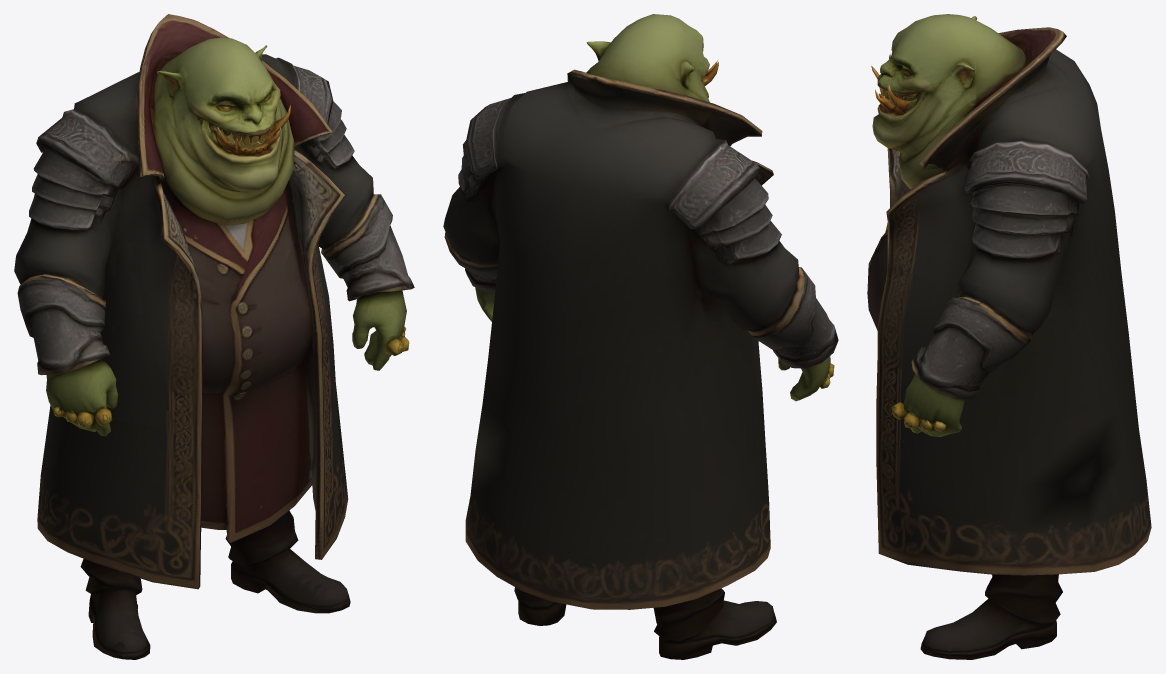
The model's file is selected.glb.
The picture shows the model from 3 angles, left to right: view 1: azimuth 30°, elevation 25°; view 2: azimuth 150°, elevation 25°; view 3: azimuth 270°, elevation 25°; orthographic projection.
Parts seen in each view (by area): view 1: tripo_node_e6ccb7b4-1f84-4223-9be4-ad90ac32db25; view 2: tripo_node_e6ccb7b4-1f84-4223-9be4-ad90ac32db25; view 3: tripo_node_e6ccb7b4-1f84-4223-9be4-ad90ac32db25.
Boxes of the visible parts, box(x1,y1,x2,y2) form: tripo_node_e6ccb7b4-1f84-4223-9be4-ad90ac32db25: box(14, 14, 414, 659); tripo_node_e6ccb7b4-1f84-4223-9be4-ad90ac32db25: box(443, 14, 838, 659); tripo_node_e6ccb7b4-1f84-4223-9be4-ad90ac32db25: box(867, 14, 1151, 659).
Size of the model in its own units: 0.6543 by 0.998 by 0.4395.
Materials: 1 (1 with a texture image).
